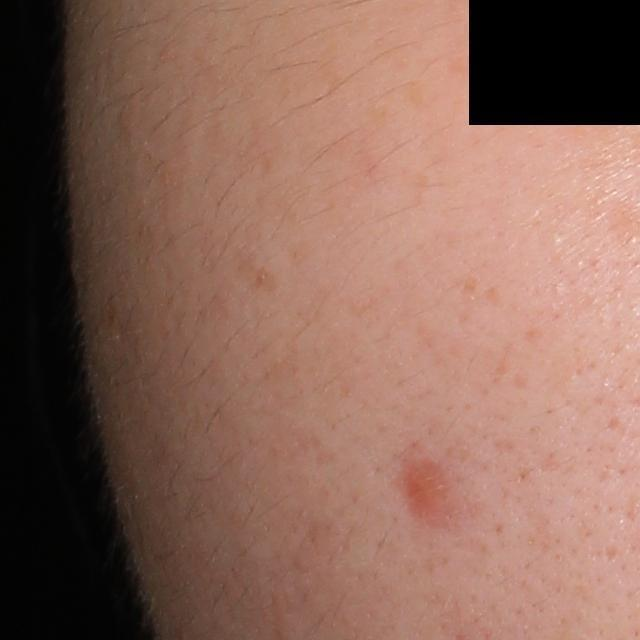papule: (391, 457, 448, 525)
